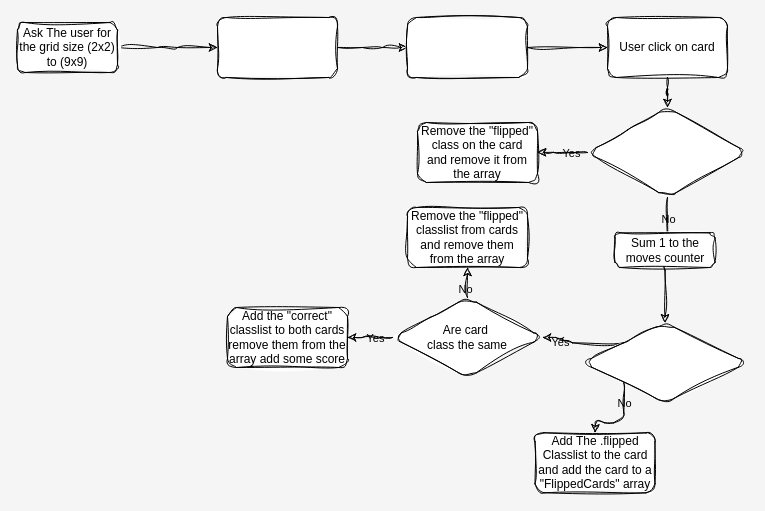
The diagram is 765 pixels wide and 511 high, and some of its shapes have lost their labels. The centre of each missing label's shape, as x and y in pixels:
In Js Iterate over the grid rows and add the cards template: the point at 277,47
Is card Flipped? (card has the "flipped" class): the point at 667,152
There is already one card active: the point at 665,362
When done render every card in the grid: the point at 467,47
